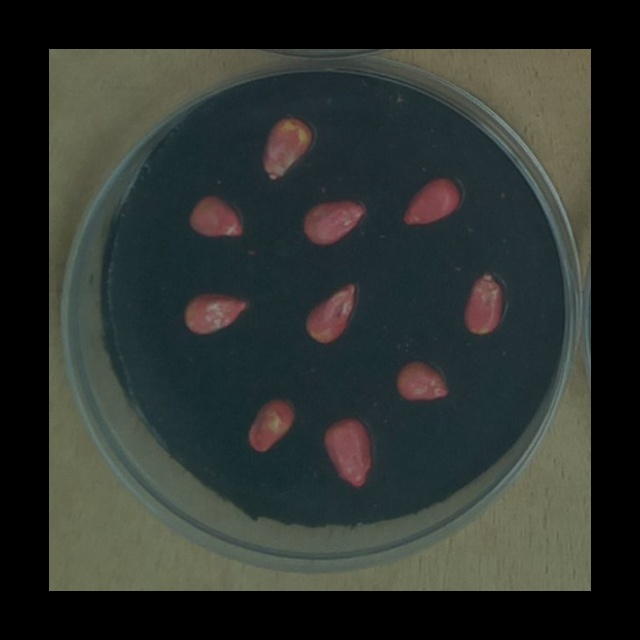Zea mays: (319, 409, 378, 492), (300, 277, 363, 349), (256, 111, 318, 184), (298, 193, 371, 250), (178, 286, 253, 340), (398, 170, 465, 229), (242, 391, 300, 457), (458, 265, 509, 340), (184, 188, 252, 244), (391, 353, 455, 407)
